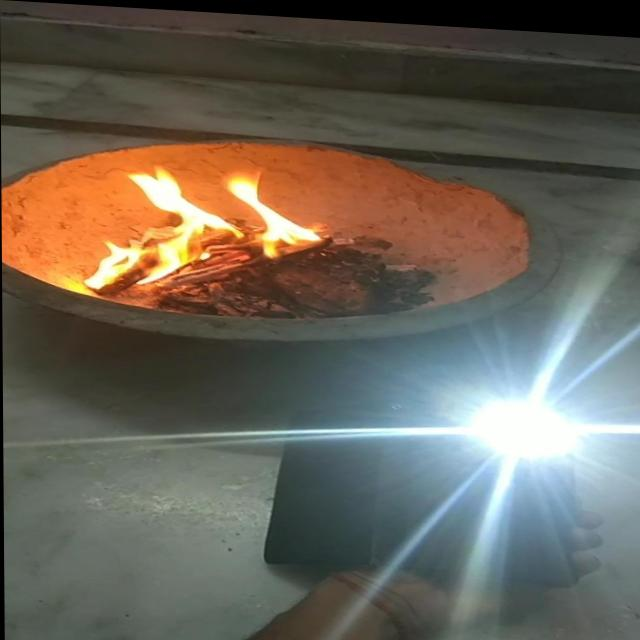fire: (69, 152, 325, 302)
